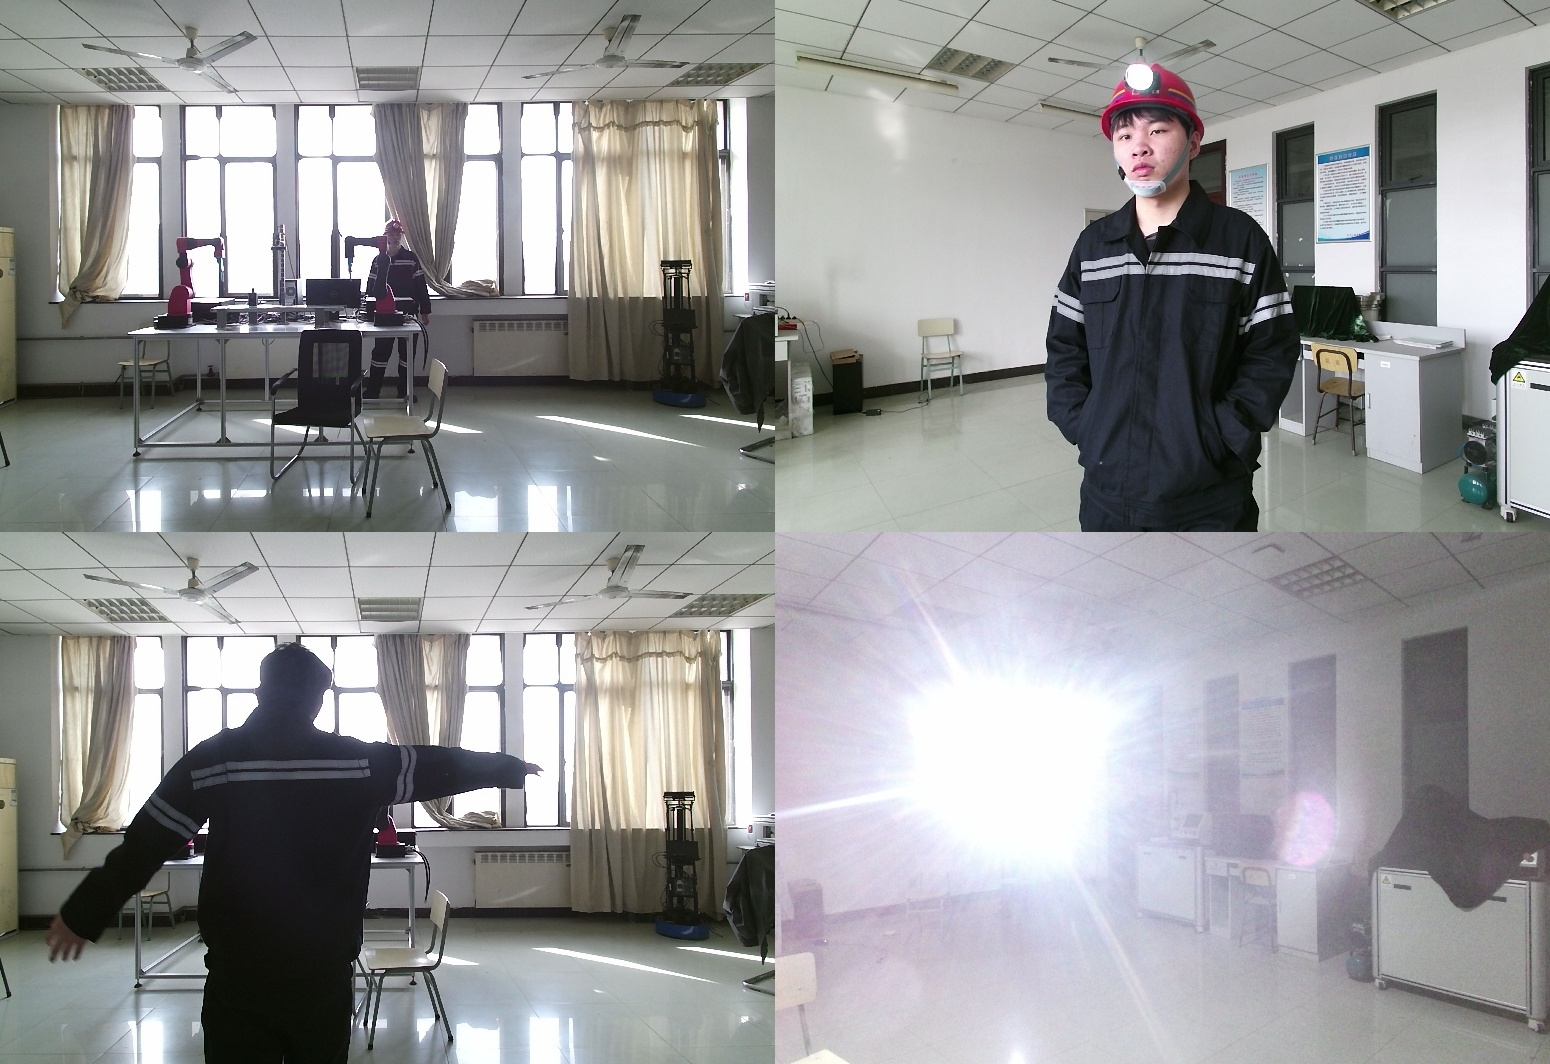person: (50, 645, 543, 1064), (1047, 63, 1325, 532), (363, 220, 431, 400), (989, 763, 1045, 923)
